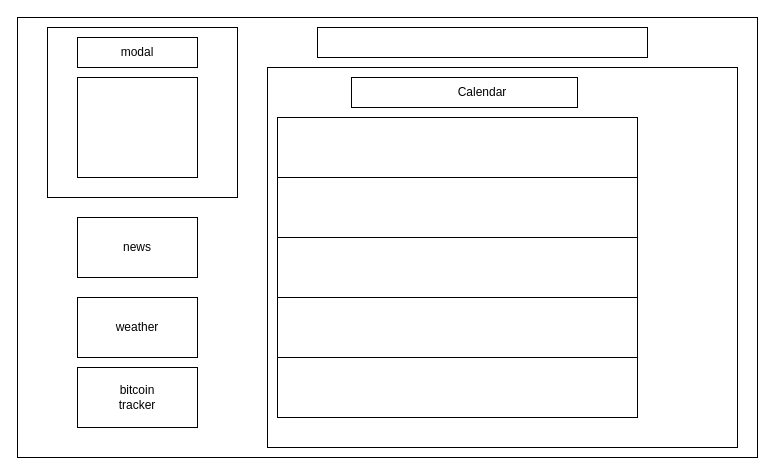
Image size: 775x475. Some labels were removed from this diagram. Each missing label, with the centre of its shape:
"Personal Planner" goes at [482,42].
"task list" goes at [137,127].
